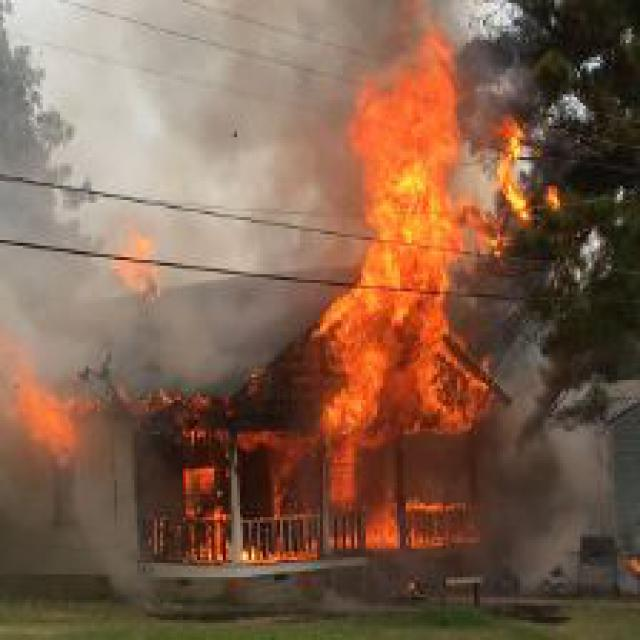fire: (297, 17, 560, 549), (8, 340, 92, 471), (105, 226, 168, 297)
